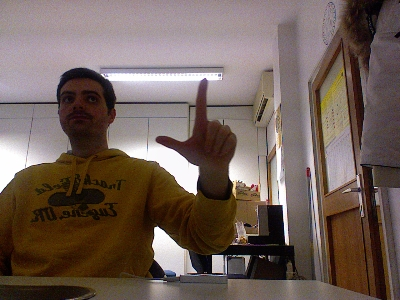枪: (154, 77, 237, 168)
